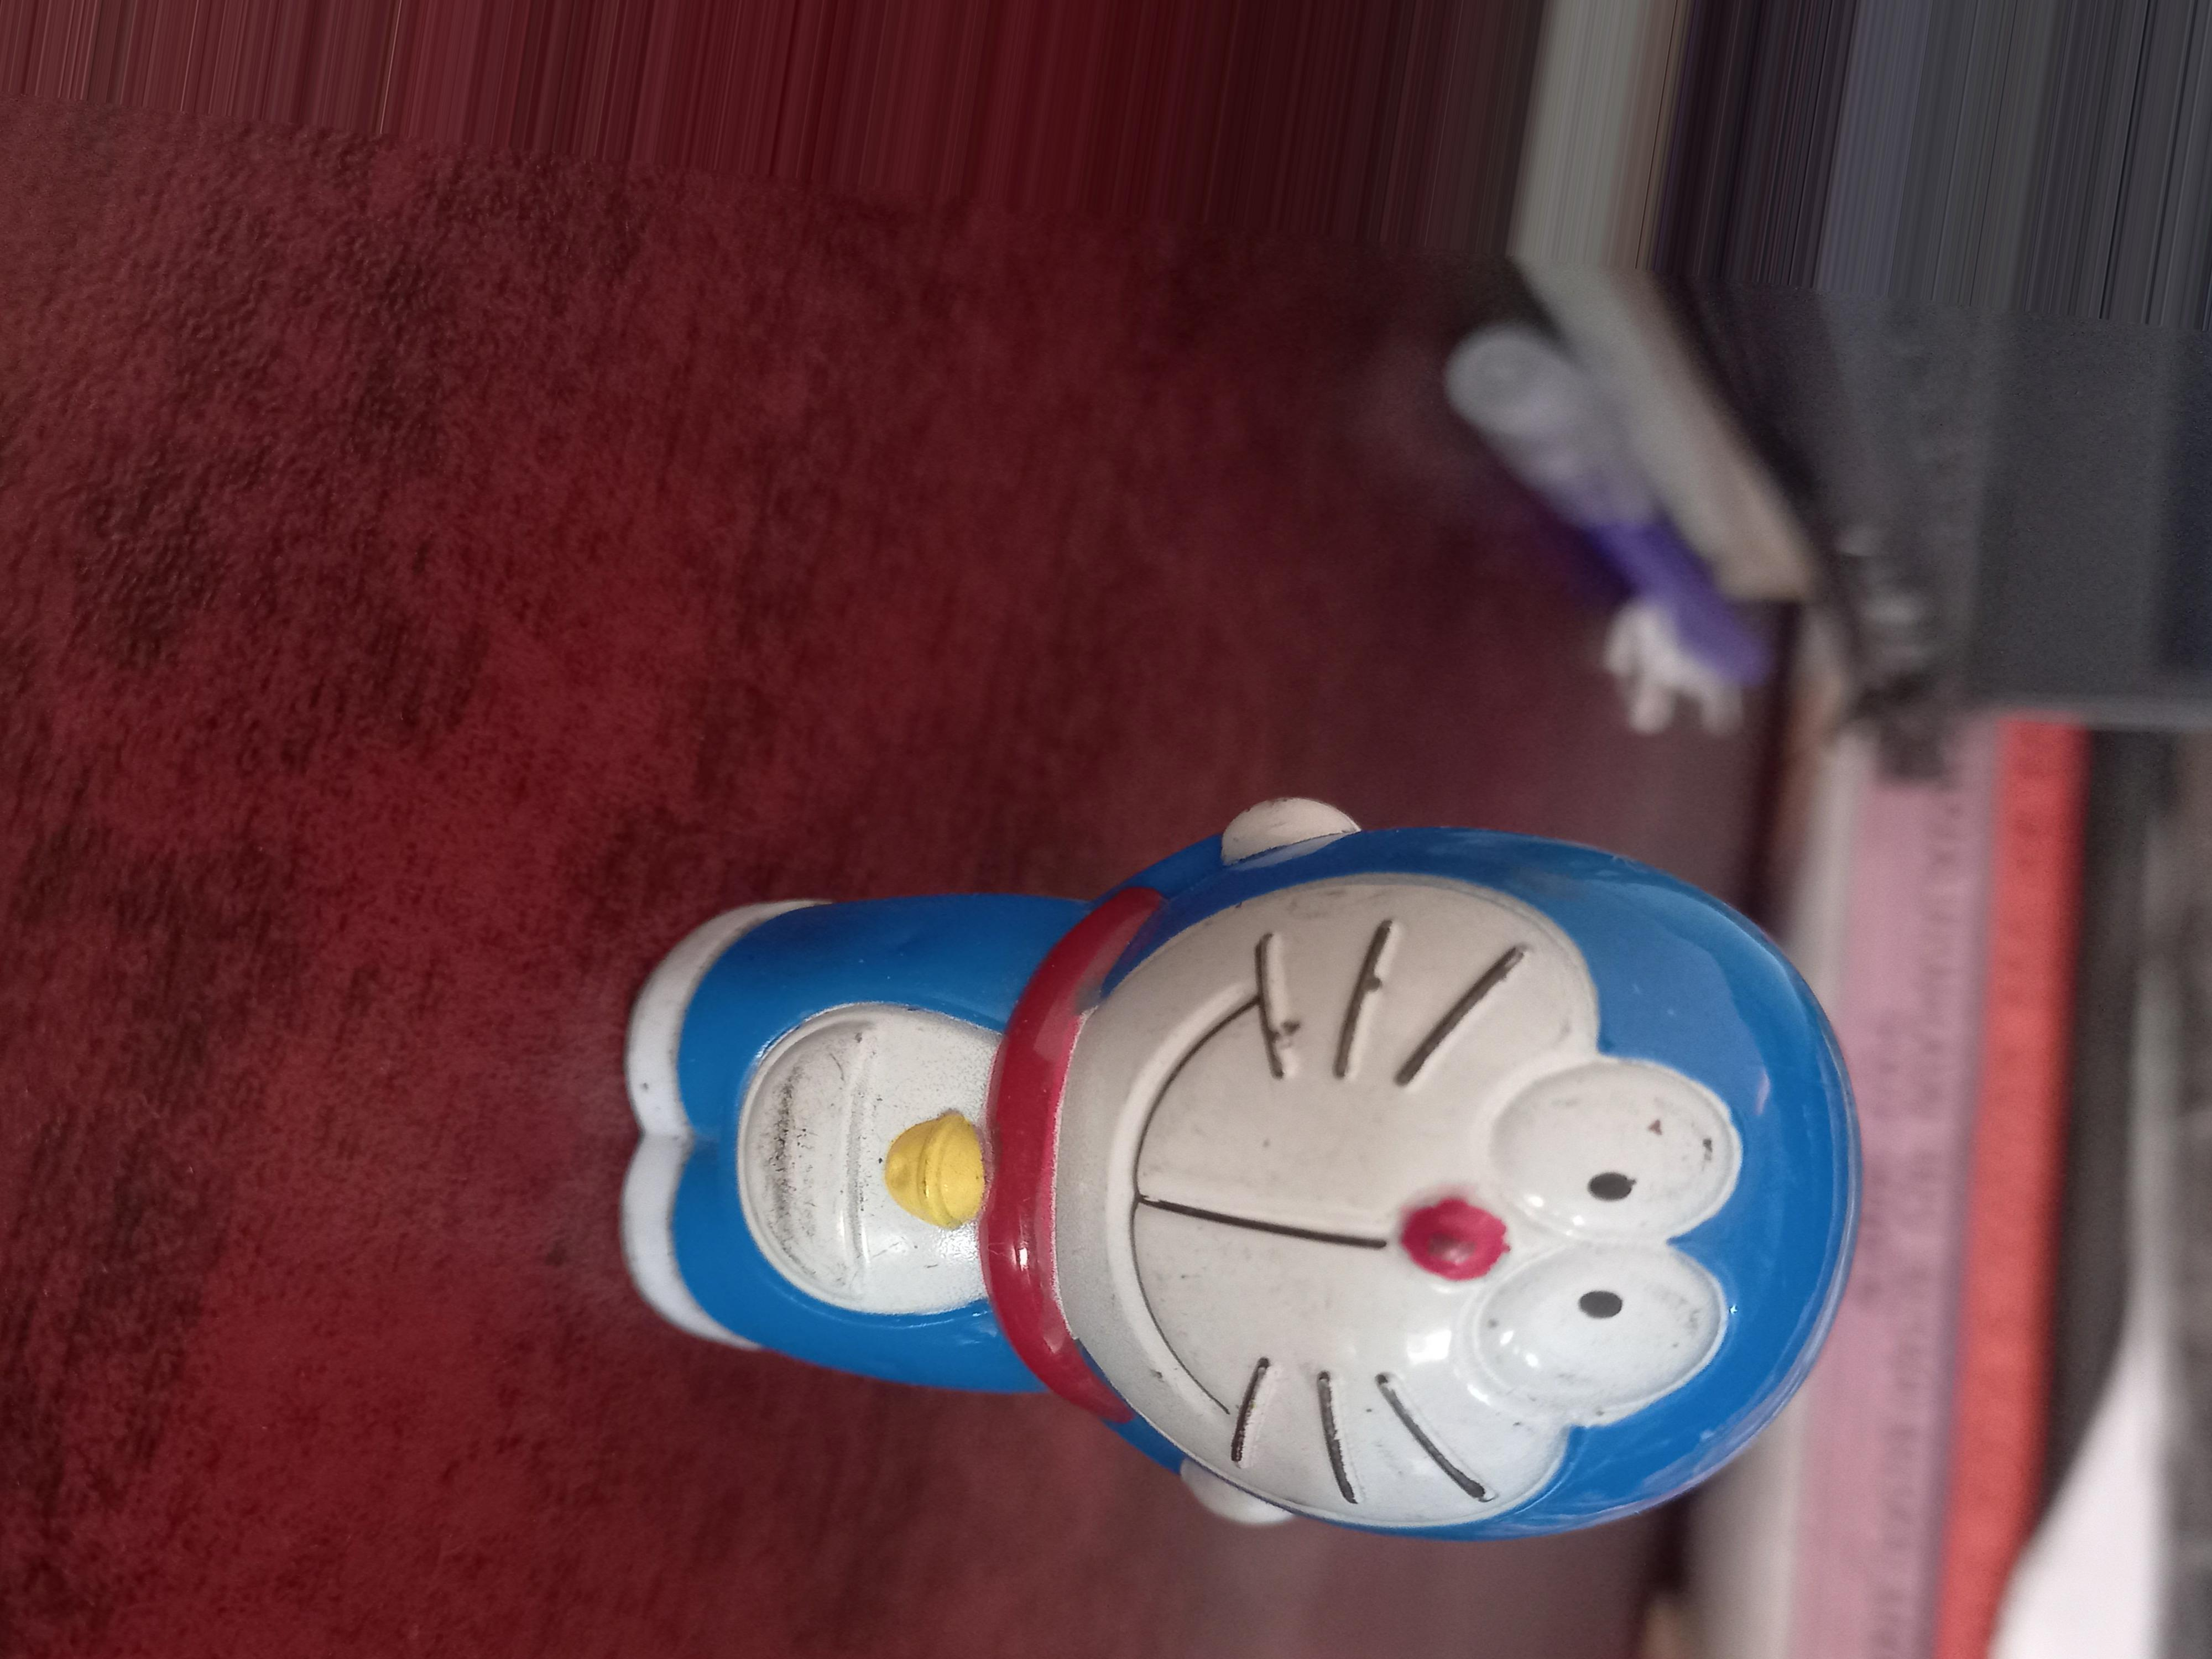doraemon: (723, 767, 1834, 1622)
